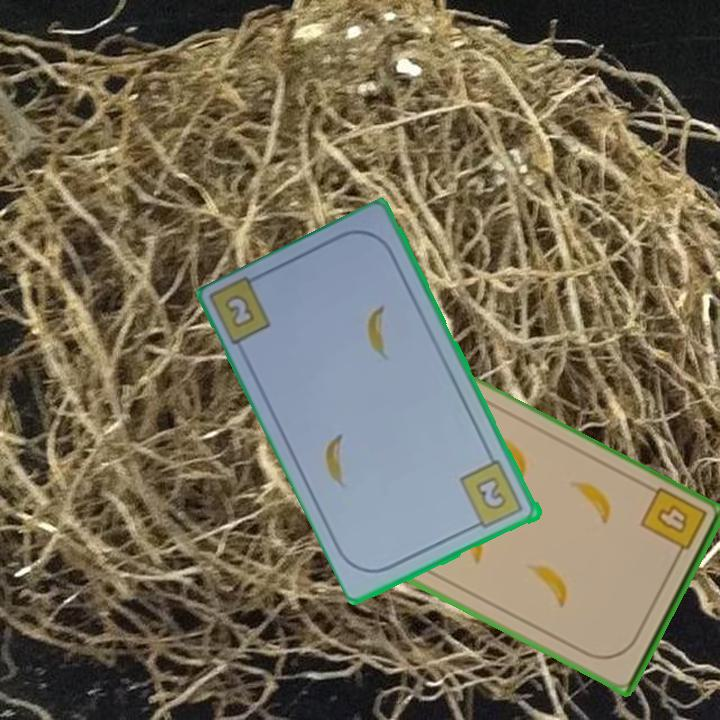2b: (456, 457, 527, 532), (224, 294, 255, 328)
4b: (636, 484, 710, 565)
